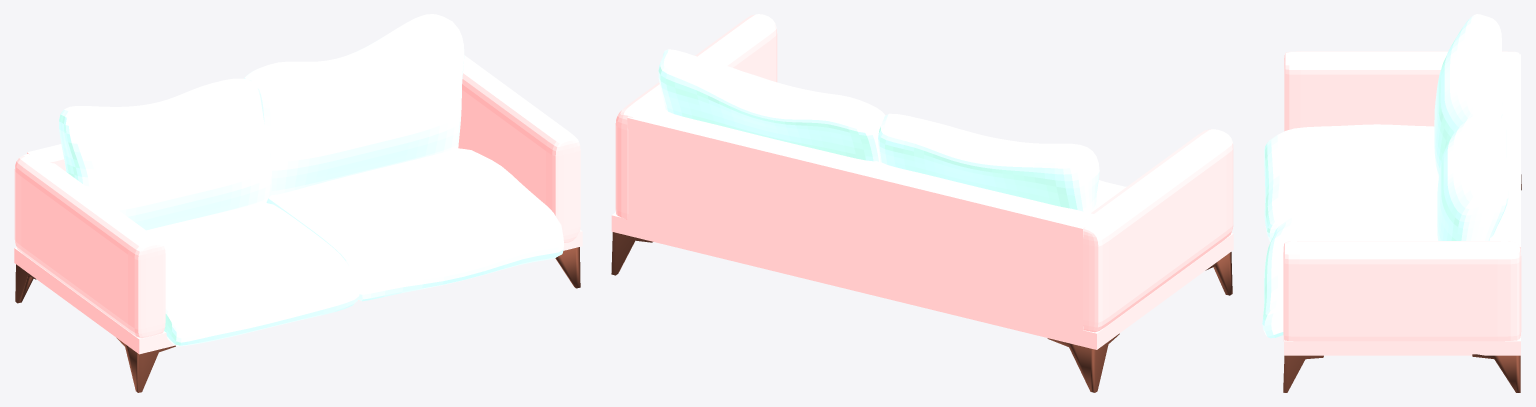
The model's file is sofa.gltf.
The picture shows the model from 3 angles, left to right: view 1: azimuth 30°, elevation 25°; view 2: azimuth 150°, elevation 25°; view 3: azimuth 270°, elevation 25°; orthographic projection. The views are drawn at different scales.
Visible parts, largest first — view 1: Cube.004, Cube.009, Cube.010, Cube.007, Cube.002, Cube.001, Cube, Cube.011, Cube.005; view 2: Cube.003, Cube.002, Cube.009, Cube.010, Cube, Cube.001, Cube.008, Cube.006, Cube.011; view 3: Cube.001, Cube.007, Cube.002, Cube.009, Cube.010, Cube.004, Cube, Cube.003, Cube.006, Cube.005.
Part boxes in pixels (x1=…): Cube.004: x1=266, y1=148, x2=563, y2=301; Cube.009: x1=244, y1=14, x2=464, y2=195; Cube.010: x1=59, y1=78, x2=271, y2=230; Cube.007: x1=146, y1=202, x2=359, y2=346; Cube.002: x1=14, y1=153, x2=165, y2=338; Cube.001: x1=458, y1=55, x2=580, y2=242; Cube: x1=14, y1=230, x2=582, y2=354; Cube.011: x1=117, y1=338, x2=175, y2=392; Cube.005: x1=555, y1=247, x2=580, y2=288; Cube.003: x1=627, y1=107, x2=1093, y2=338; Cube.002: x1=1082, y1=129, x2=1233, y2=332; Cube.009: x1=658, y1=49, x2=885, y2=161; Cube.010: x1=878, y1=113, x2=1099, y2=213; Cube: x1=611, y1=212, x2=1233, y2=349; Cube.001: x1=615, y1=14, x2=777, y2=219; Cube.008: x1=1047, y1=333, x2=1119, y2=392; Cube.006: x1=611, y1=232, x2=652, y2=275; Cube.011: x1=1205, y1=252, x2=1232, y2=295; Cube.001: x1=1283, y1=241, x2=1521, y2=341; Cube.007: x1=1264, y1=124, x2=1438, y2=241; Cube.002: x1=1284, y1=51, x2=1519, y2=131; Cube.009: x1=1437, y1=114, x2=1508, y2=240; Cube.010: x1=1434, y1=14, x2=1502, y2=177; Cube.004: x1=1262, y1=211, x2=1437, y2=338; Cube: x1=1284, y1=336, x2=1520, y2=355; Cube.003: x1=1490, y1=54, x2=1520, y2=251; Cube.006: x1=1472, y1=354, x2=1520, y2=392; Cube.005: x1=1283, y1=355, x2=1323, y2=392.
Bounding box in the file's own units: 4.13 × 1.78 × 2.19.
